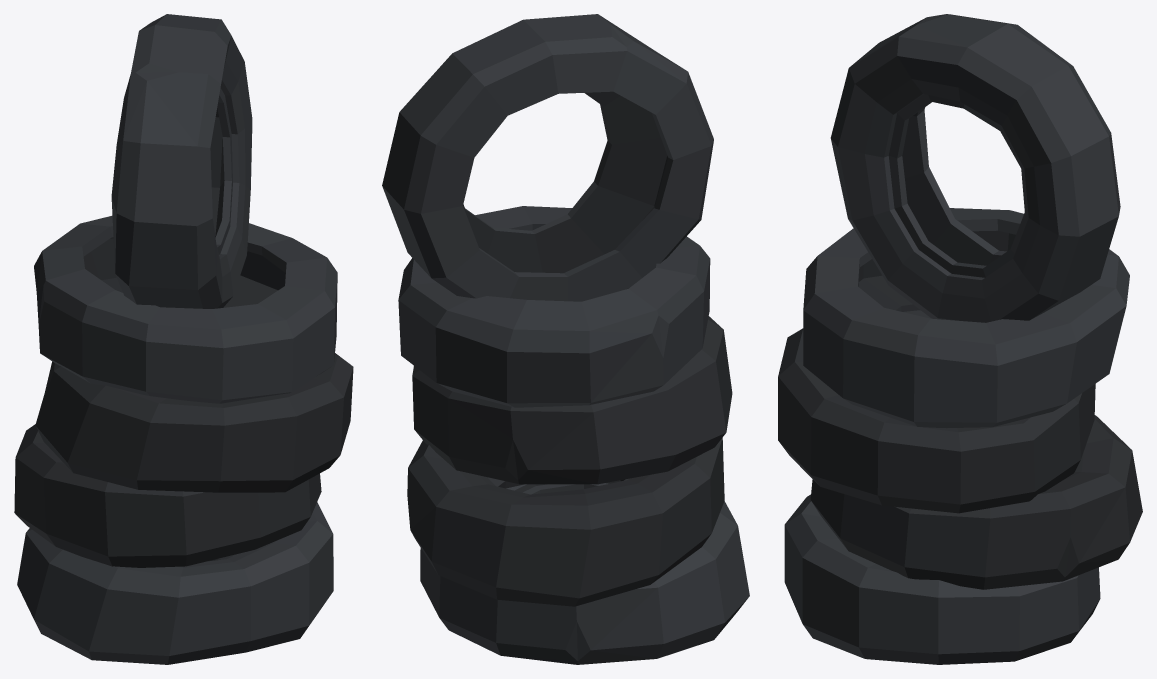
Rendered from SM_Prop_TyreStack_02.fbx.
3 views of the same model, side by side, from view 1: azimuth 30°, elevation 25°; view 2: azimuth 150°, elevation 25°; view 3: azimuth 270°, elevation 25° (orthographic). The views are drawn at different scales.
Visible parts, largest first — view 1: SM_Prop_TyreStack_02; view 2: SM_Prop_TyreStack_02; view 3: SM_Prop_TyreStack_02.
Boxes of the visible parts, box(x1,y1,x2,y2) form: SM_Prop_TyreStack_02: box(14, 14, 353, 664); SM_Prop_TyreStack_02: box(382, 14, 749, 664); SM_Prop_TyreStack_02: box(778, 14, 1142, 664).
Bounding box in the file's own units: 79.23 × 148 × 81.83.
